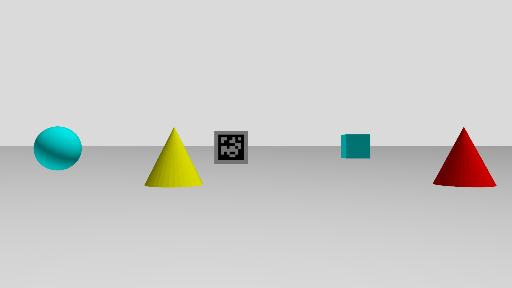red_cone: (430, 127, 496, 188)
yellow_cone: (143, 126, 204, 187)
